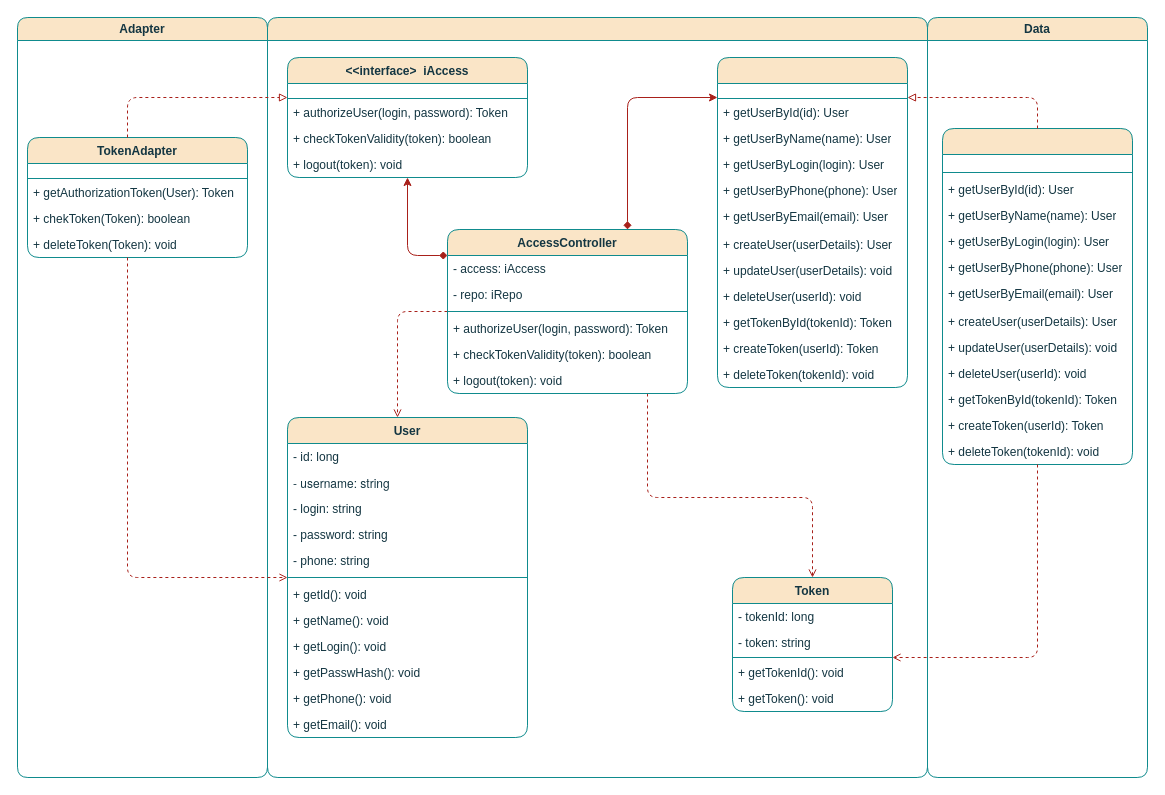
Image size: 1165x795. Some labels were removed from this diagram. The box of each missing label's shape, as (x1, y1, x2, y2) in pixels:
<<interface> iRepo: (716, 56, 908, 388)
Logic: (266, 16, 928, 778)
Repo: (942, 128, 1132, 464)
